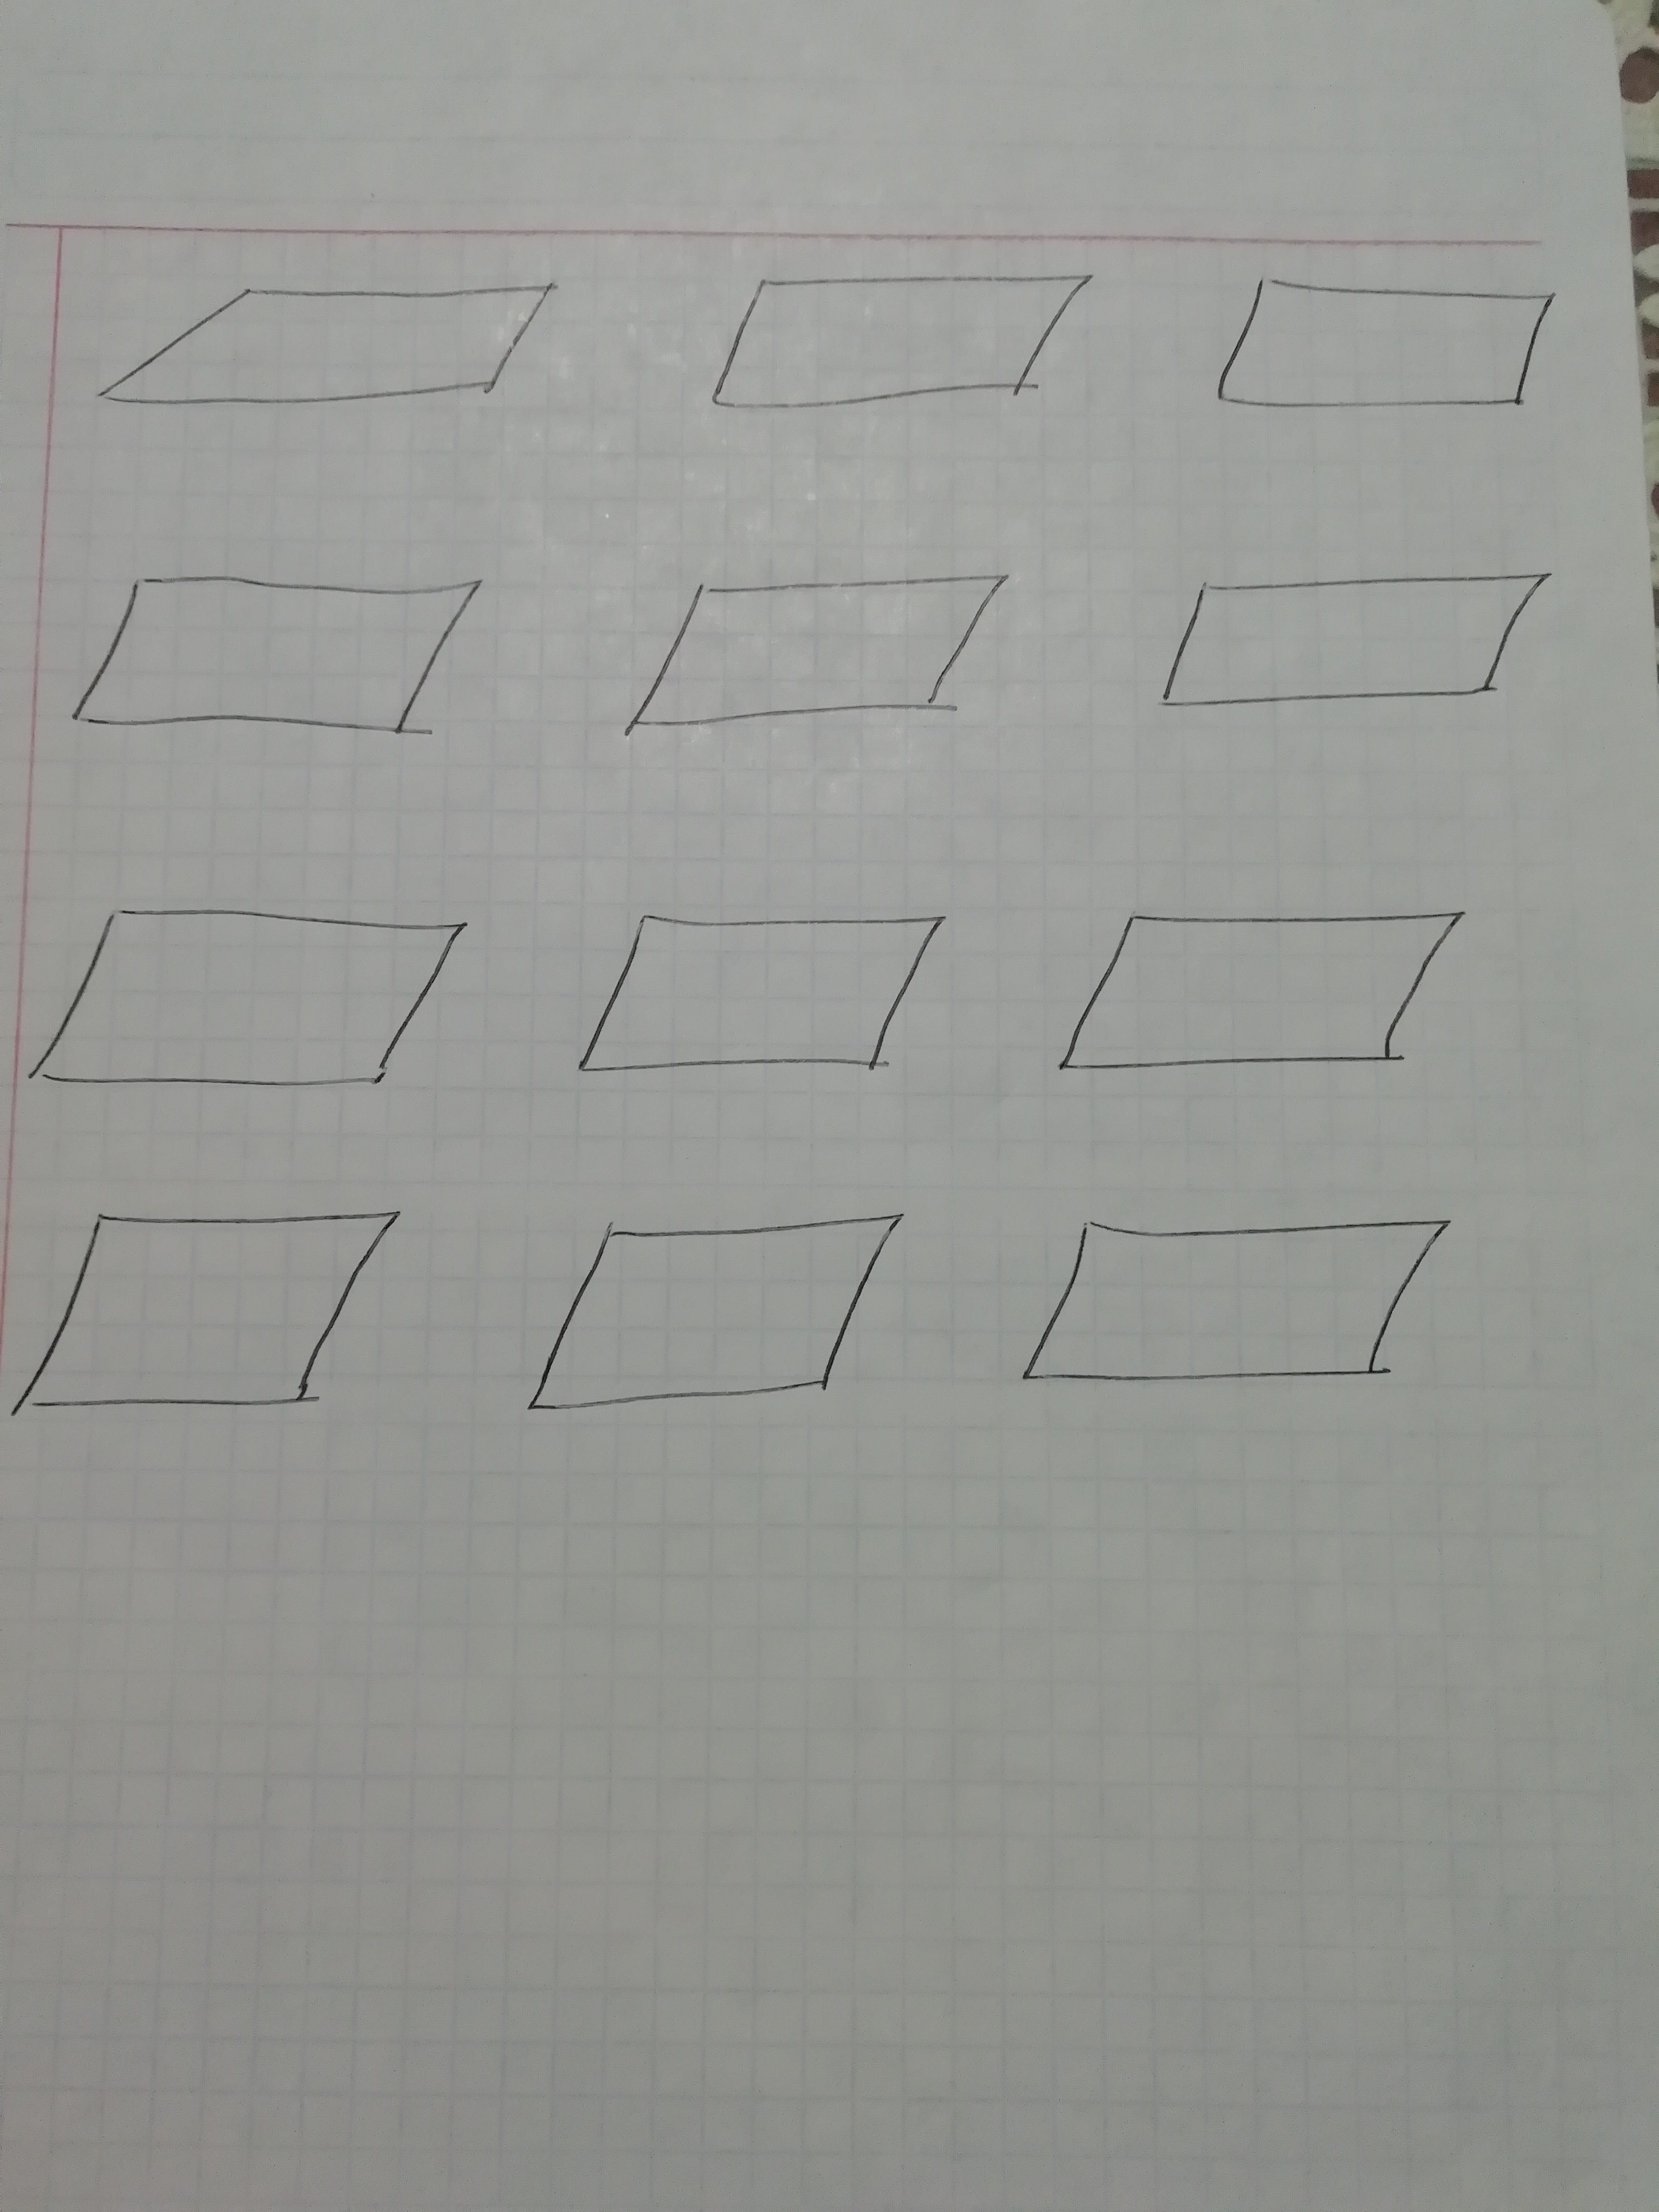scan: (2, 1188, 430, 1482), (5, 880, 498, 1134), (66, 226, 615, 453), (997, 1184, 1486, 1435), (1023, 873, 1486, 1120), (26, 545, 526, 766), (486, 1195, 945, 1432), (676, 223, 1122, 460), (554, 880, 965, 1134), (1119, 545, 1586, 747), (594, 549, 1051, 747), (1182, 237, 1579, 446)
